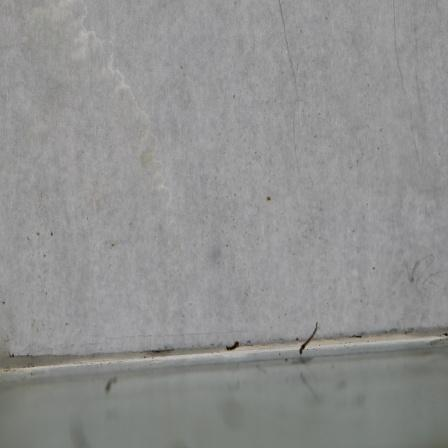Jentik-Nyamuk: (296, 318, 322, 359), (223, 337, 241, 355)
